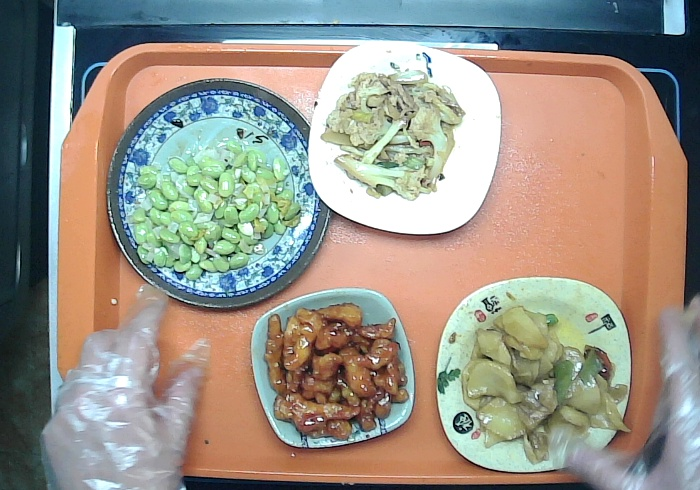NLDX-Bai_Se_Xiao_Fang_Die: (300, 37, 505, 243)
NLDX-Fu_Zi_Fang_Die: (426, 272, 636, 481)
NLDX-Qing_Hua_Xiao_Fang_Die: (241, 284, 421, 456)
NLDX-Qing_Hua_Yuan_Die: (103, 72, 337, 315)
